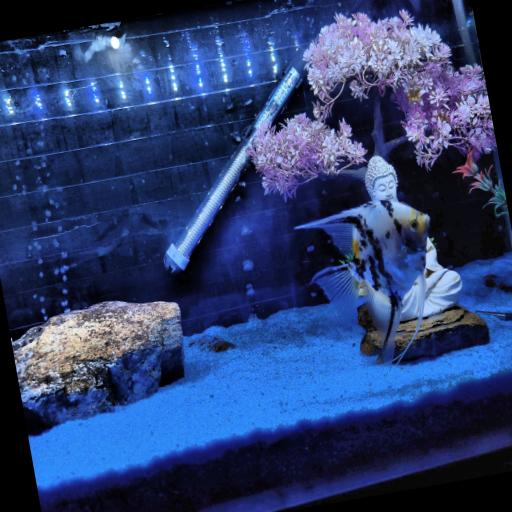Fish: (298, 200, 429, 363)
